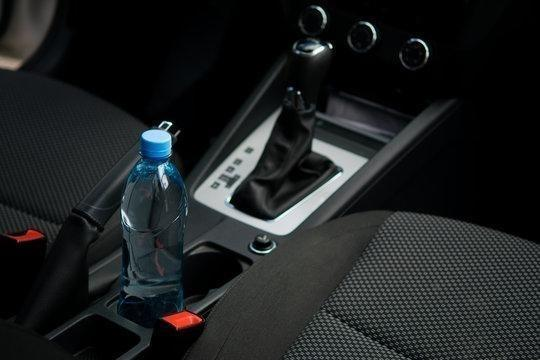bottle-plastic: (116, 126, 190, 326)
